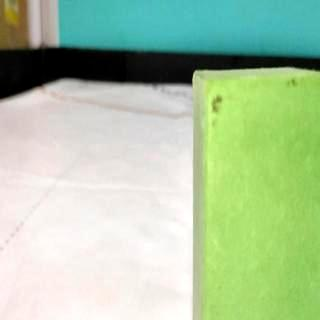greenbox: (192, 67, 320, 320)
